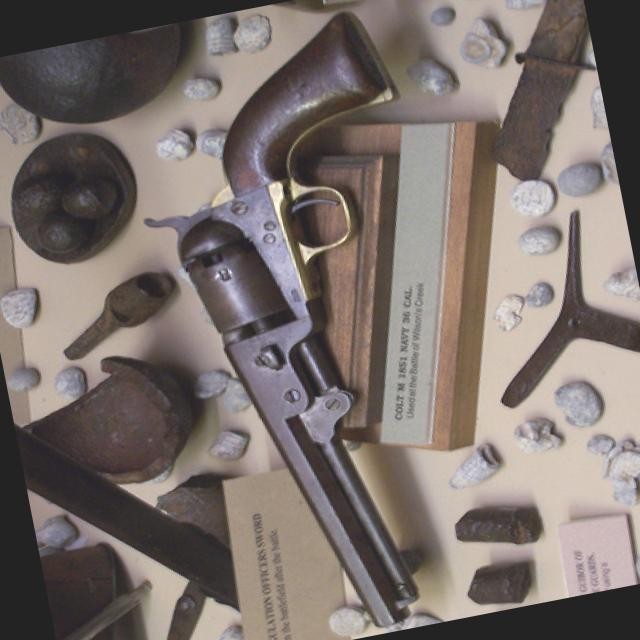handgun: (109, 11, 489, 639)
